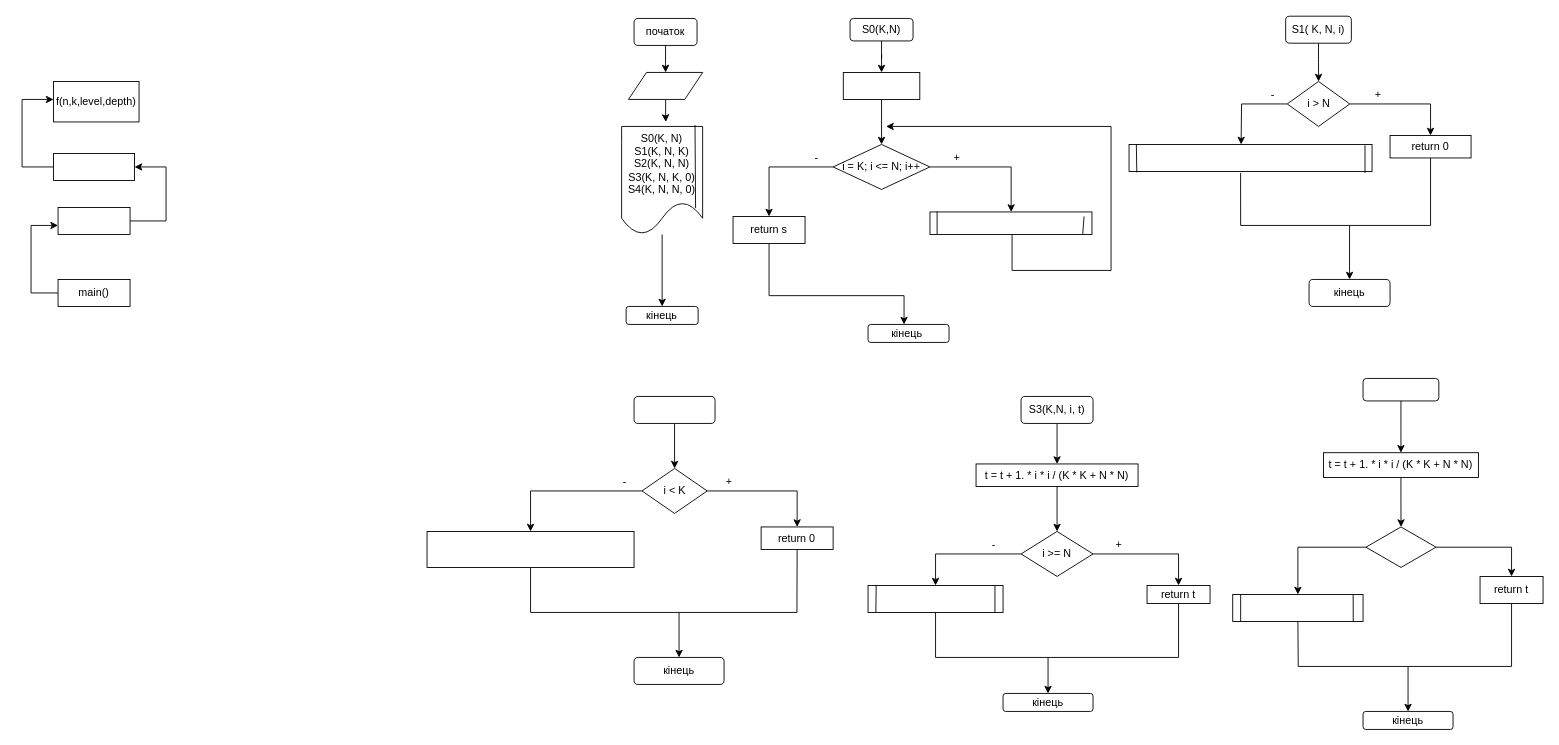
This 1559x745 diagram has some shape labels left out. The box of each missing label's shape, as (x1, y1, x2, y2) in pixels:
1. * i * i / (K * K + N * N) + S2(K, N, i - 1): (426, 531, 634, 567)
binomial(n, k): (53, 153, 135, 180)
C(n,k): (57, 207, 130, 234)
i <= K: (1365, 526, 1436, 567)
K,N: (628, 72, 703, 99)
return 1. * i * i / (K * K + N * N) + S1(K, N, i + 1): (1128, 144, 1372, 171)
return S3(K, N, i + 1, t): (867, 585, 1003, 612)
return S4(K, N, i - 1, t): (1232, 594, 1363, 621)
s += 1. * i * i / (K * K + N * N): (929, 211, 1092, 234)
s = 0: (842, 72, 920, 99)
S2(K,N,i): (633, 396, 715, 423)
S4(K, N,i,t): (1362, 378, 1439, 401)
